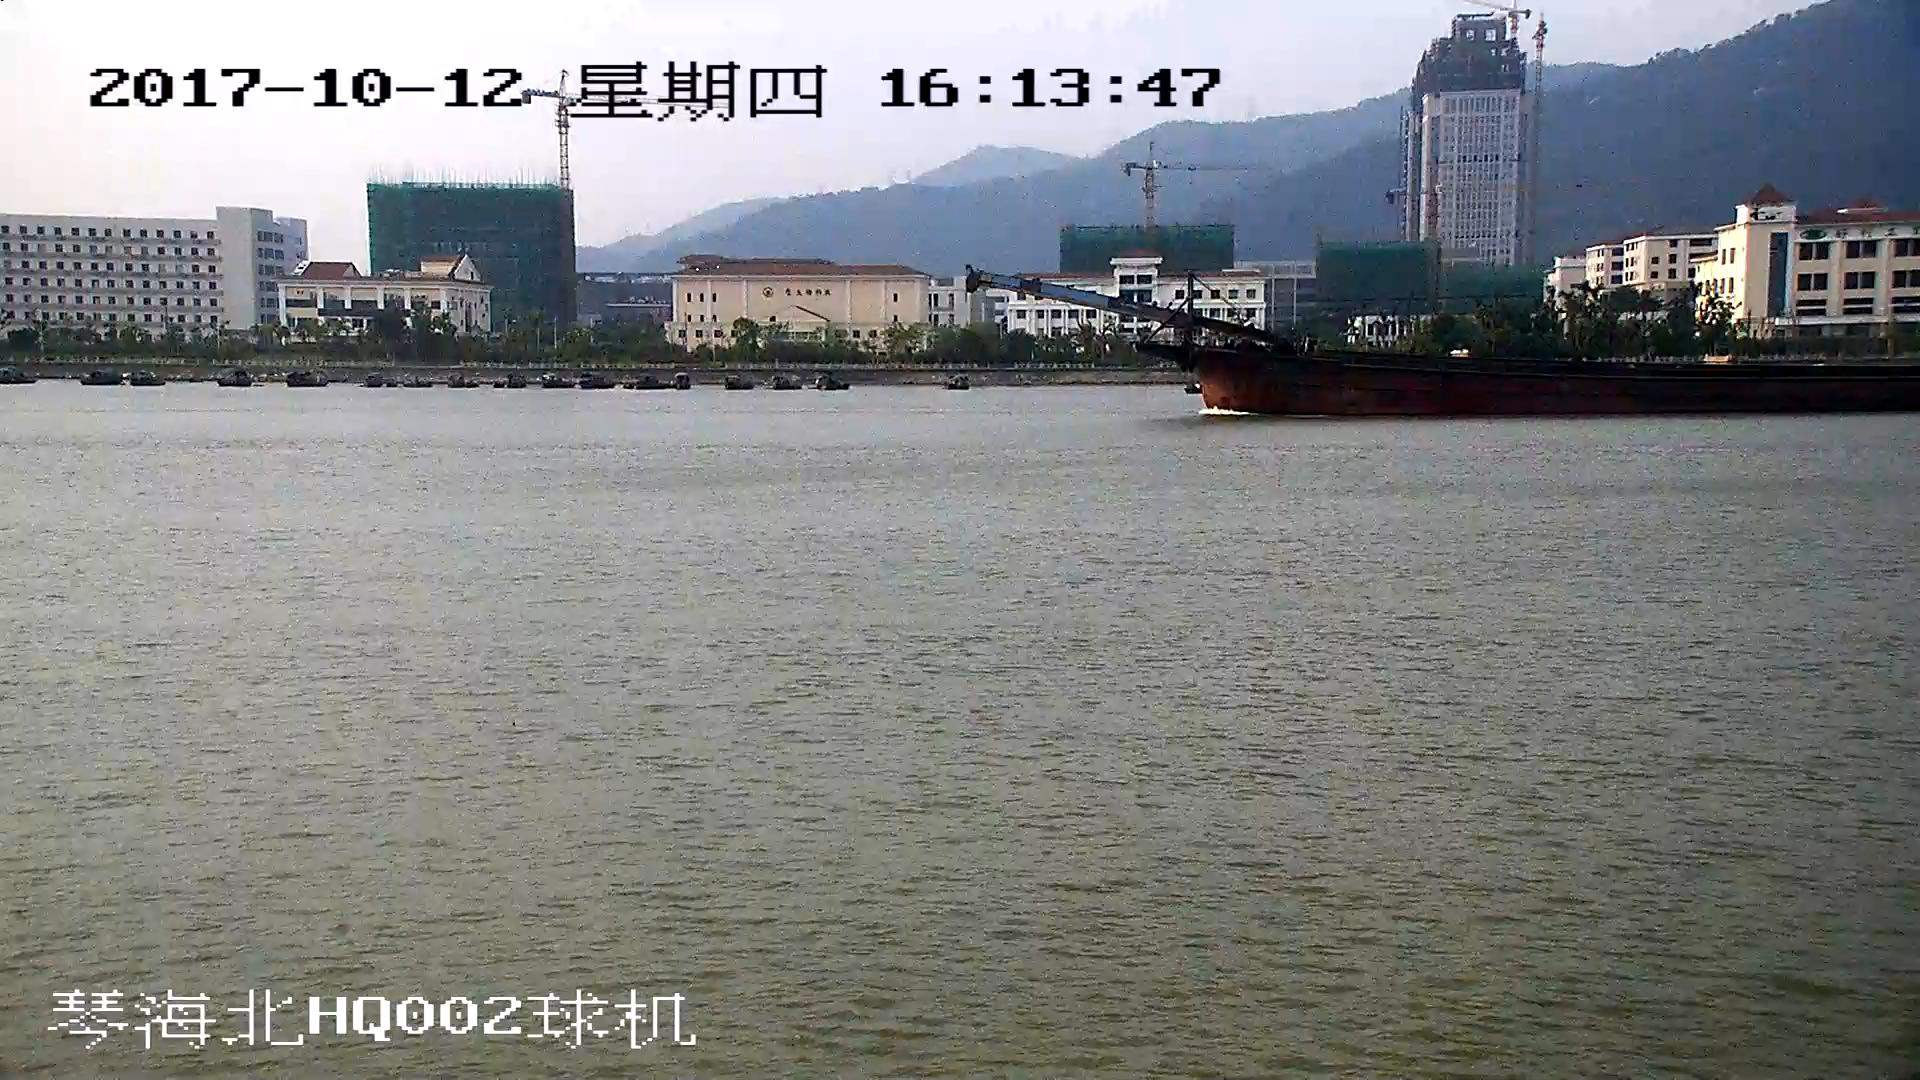bulk cargo carrier: (969, 270, 1920, 414)
